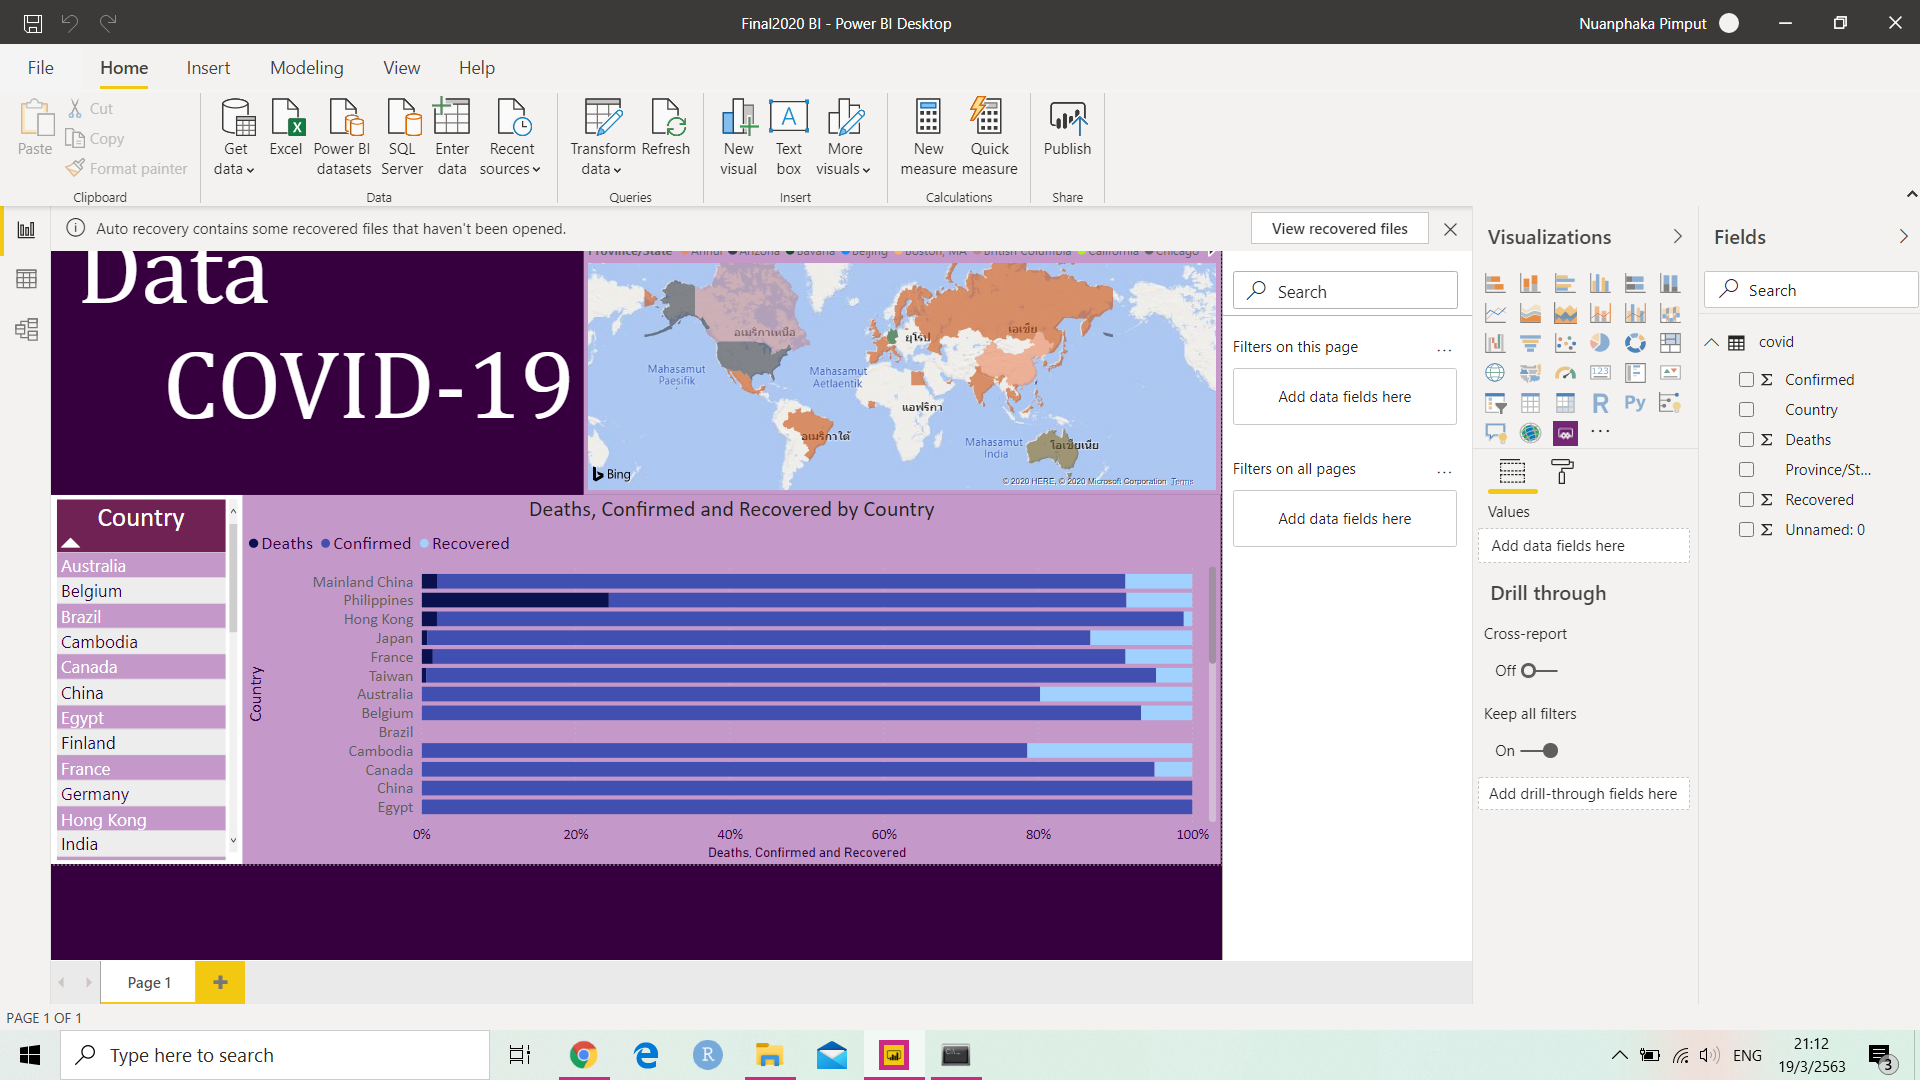

This screenshot's page, from the dashboard's own definition file:
{"tool":"powerbi","page":{"name":"Page 1","canvas":[1280,720],"ordinal":0},"visuals":[{"type":"filledMap","fields":{"Category":["covid.Country"],"Series":["covid.Province/State"]},"box":[582.6,0,697.4,315.9],"z":0},{"type":"hundredPercentStackedBarChart","fields":{"Category":["covid.Country"],"Y":["Sum(covid.Deaths)","Sum(covid.Confirmed)","Sum(covid.Recovered)"]},"box":[209.2,315.9,1070.8,404.8],"z":1000},{"type":"tableEx","fields":{"Values":["covid.Country"]},"box":[0,315.9,209.2,404.8],"z":2000},{"type":"textbox","box":[0,0,582.6,315.9],"z":3000}]}

Visuals, with their boxes on the page's 1280x720 design canvas (x1, y1, x2, y2). These are canvas units, not pixel positions in the 1920x1080 screenshot, which may show the page scaled, cropped or inside an application window:
filledMap - covid.Country x covid.Province/State: (583,0,1280,316)
hundredPercentStackedBarChart - covid.Country x Sum(covid.Deaths): (209,316,1280,721)
tableEx - covid.Country: (0,316,209,721)
textbox: (0,0,583,316)
